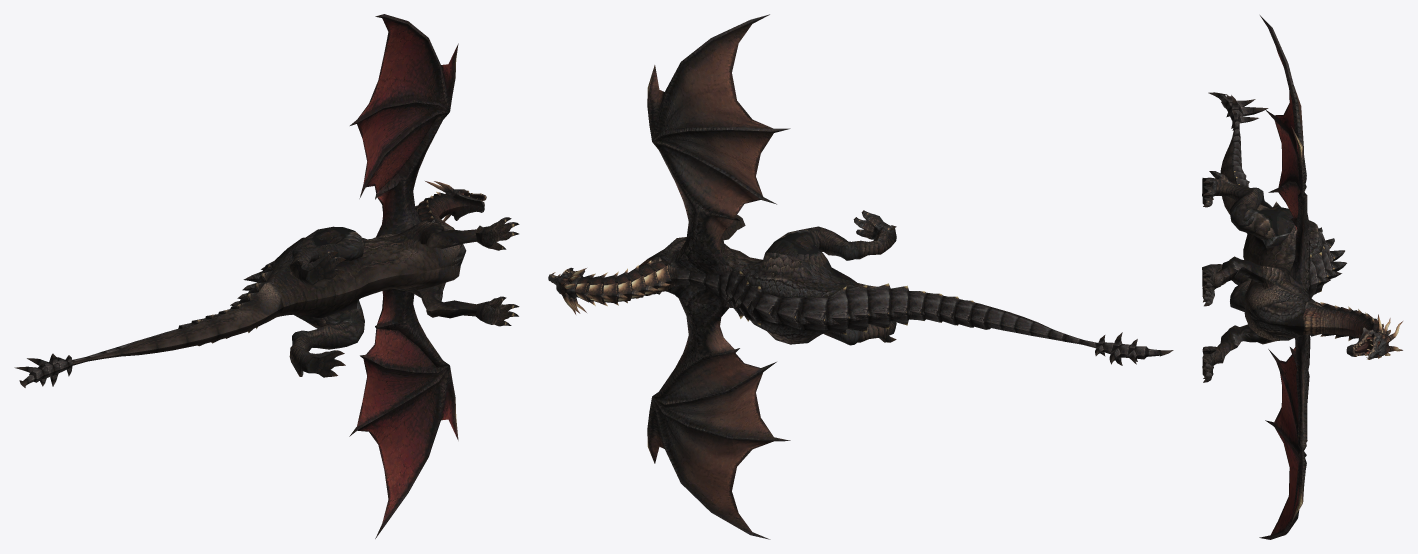
The model's file is dragonsmall-noseve.DAE.
3 renders of one model, left to right at view 1: azimuth 30°, elevation 25°; view 2: azimuth 150°, elevation 25°; view 3: azimuth 270°, elevation 25°, orthographic.
Visible parts, largest first — view 1: objSubMesh01; view 2: objSubMesh01; view 3: objSubMesh01.
Boxes of the visible parts, x1,y1,x2,y2 form: objSubMesh01: [14, 14, 519, 538]; objSubMesh01: [548, 14, 1173, 539]; objSubMesh01: [1202, 15, 1402, 539].
Size of the model in its own units: 0.1266 by 0.117 by 0.0408.
Materials: 4 (4 with a texture image).
